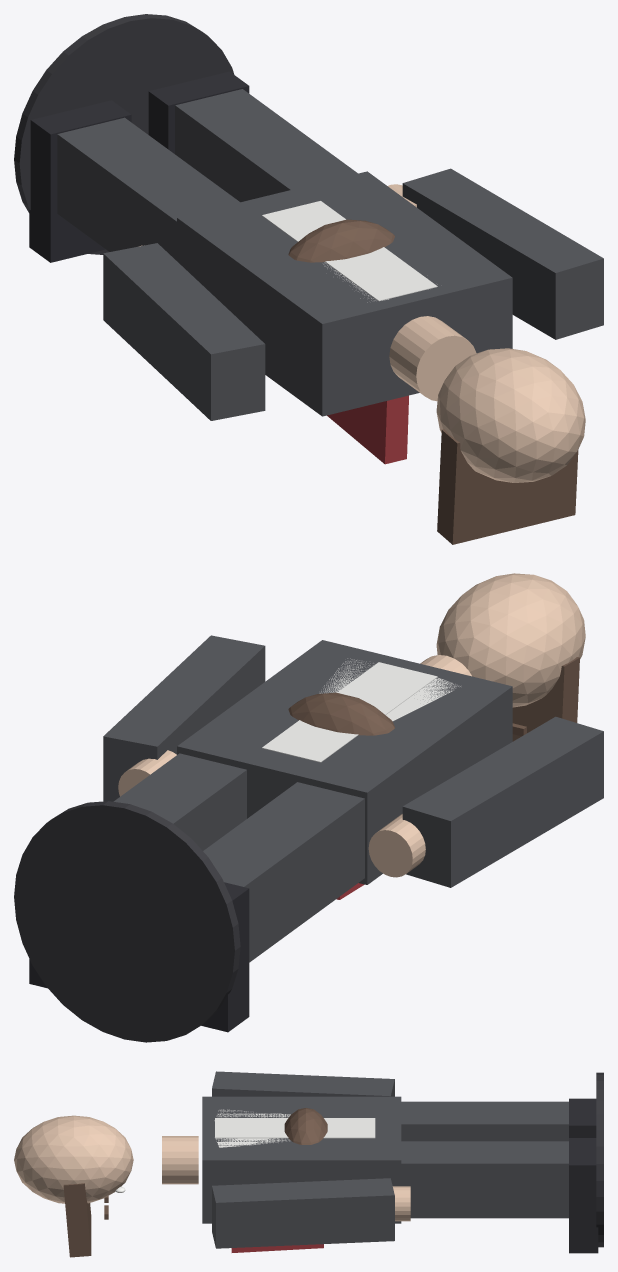
Rendered from bateman.glb.
The picture shows the model from 3 angles, top to bottom: view 1: azimuth 30°, elevation 25°; view 2: azimuth 150°, elevation 25°; view 3: azimuth 270°, elevation 25°; orthographic projection. The views are drawn at different scales.
Parts seen in each view (by area): view 1: torso, arm, leg, head, arm_1, world, leg_1, hairfront, shoe, shirt, neck, tie (+2 smaller); view 2: world, torso, arm, leg, head, arm_1, leg_1, shirt, haircap, shoe, hand, hairfront (+2 smaller); view 3: torso, leg_1, arm_1, head, leg, arm, shoe_1, shirt, neck, hairfront, world, haircap (+5 smaller).
Boxes of the visible parts, x1=… form: torso: x1=177, y1=171, x2=512, y2=416; arm: x1=103, y1=243, x2=265, y2=420; leg: x1=57, y1=117, x2=239, y2=260; head: x1=436, y1=348, x2=585, y2=482; arm_1: x1=402, y1=168, x2=603, y2=339; world: x1=14, y1=14, x2=234, y2=254; leg_1: x1=175, y1=89, x2=357, y2=202; hairfront: x1=437, y1=429, x2=578, y2=544; shoe: x1=29, y1=100, x2=131, y2=262; shirt: x1=262, y1=201, x2=437, y2=301; neck: x1=389, y1=316, x2=476, y2=401; tie: x1=327, y1=395, x2=408, y2=464; world: x1=14, y1=801, x2=240, y2=1042; torso: x1=177, y1=640, x2=512, y2=884; arm: x1=402, y1=716, x2=603, y2=887; leg: x1=203, y1=782, x2=364, y2=962; head: x1=436, y1=573, x2=585, y2=707; arm_1: x1=103, y1=635, x2=265, y2=801; leg_1: x1=113, y1=753, x2=246, y2=850; shirt: x1=262, y1=662, x2=437, y2=762; haircap: x1=288, y1=692, x2=394, y2=735; shoe: x1=201, y1=882, x2=249, y2=1032; hand: x1=368, y1=814, x2=425, y2=877; hairfront: x1=512, y1=657, x2=579, y2=741; torso: x1=202, y1=1096, x2=401, y2=1223; leg_1: x1=401, y1=1141, x2=568, y2=1218; arm_1: x1=212, y1=1178, x2=394, y2=1248; head: x1=14, y1=1115, x2=133, y2=1203; leg: x1=401, y1=1101, x2=568, y2=1141; arm: x1=212, y1=1071, x2=394, y2=1096; shoe_1: x1=569, y1=1138, x2=598, y2=1253; shirt: x1=215, y1=1118, x2=375, y2=1138; neck: x1=162, y1=1136, x2=198, y2=1184; hairfront: x1=63, y1=1183, x2=91, y2=1257; world: x1=596, y1=1072, x2=603, y2=1247; haircap: x1=284, y1=1108, x2=327, y2=1144.
Bounding box in the file's own units: 3.2 × 1.91 × 6.07.
